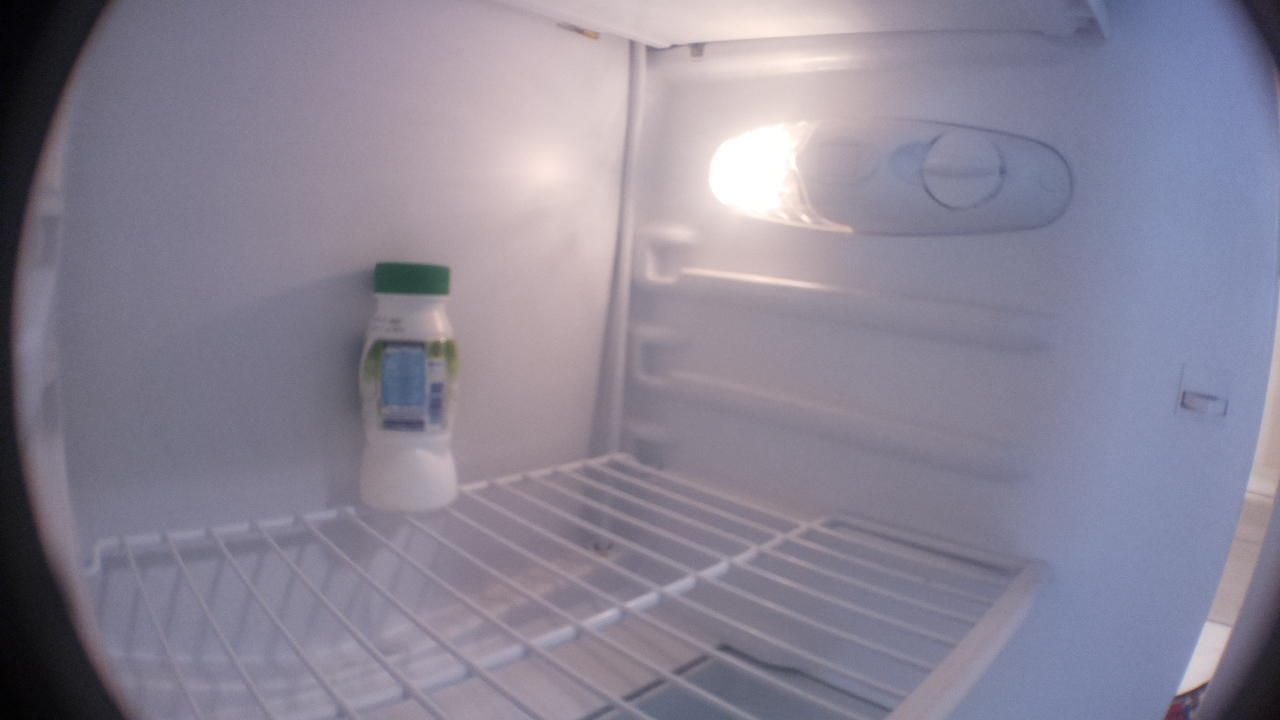laban: (351, 261, 460, 513)
